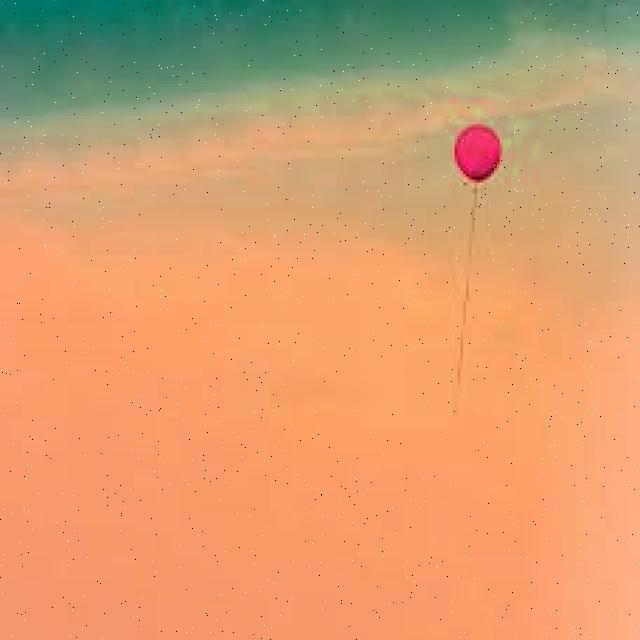red: (453, 123, 501, 181)
